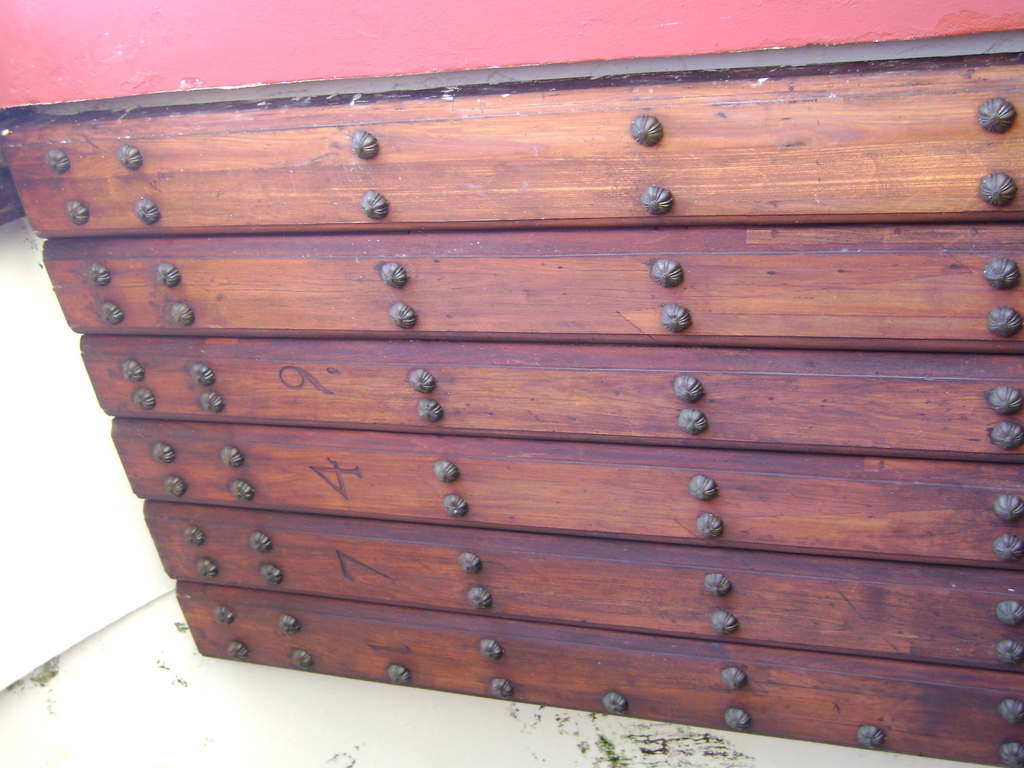cabinet door: (91, 337, 1017, 461), (199, 592, 1010, 730), (137, 432, 1024, 549), (62, 246, 1024, 345), (152, 501, 1024, 598), (34, 140, 1024, 214)
